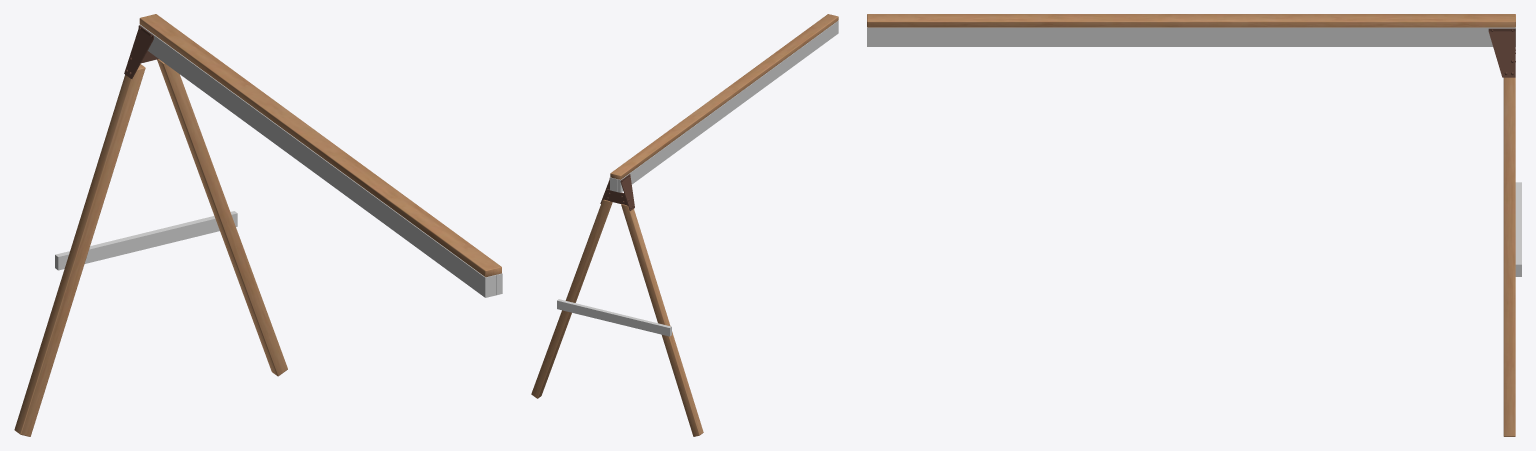
The picture shows the model from 3 angles, left to right: view 1: azimuth 30°, elevation 25°; view 2: azimuth 150°, elevation 25°; view 3: azimuth 270°, elevation 25°; orthographic projection. The views are drawn at different scales.
Visible parts, largest first — view 1: Plane002, Plane002_1,_colorize_, Plane002_2; view 2: Plane002, Plane002_1,_colorize_, Plane002_2; view 3: Plane002, Plane002_1,_colorize_, Plane002_2.
Boxes of the visible parts, bbox=[...] form: Plane002: bbox=[14, 14, 501, 436]; Plane002_1,_colorize_: bbox=[55, 24, 502, 297]; Plane002_2: bbox=[124, 25, 158, 78]; Plane002: bbox=[531, 14, 838, 436]; Plane002_1,_colorize_: bbox=[557, 20, 838, 336]; Plane002_2: bbox=[600, 174, 634, 210]; Plane002: bbox=[867, 14, 1515, 436]; Plane002_1,_colorize_: bbox=[867, 27, 1521, 276]; Plane002_2: bbox=[1488, 28, 1515, 77].
Bounding box in the file's own units: 2.41 × 3.33 × 5.45.
3 materials, 1 textured.
